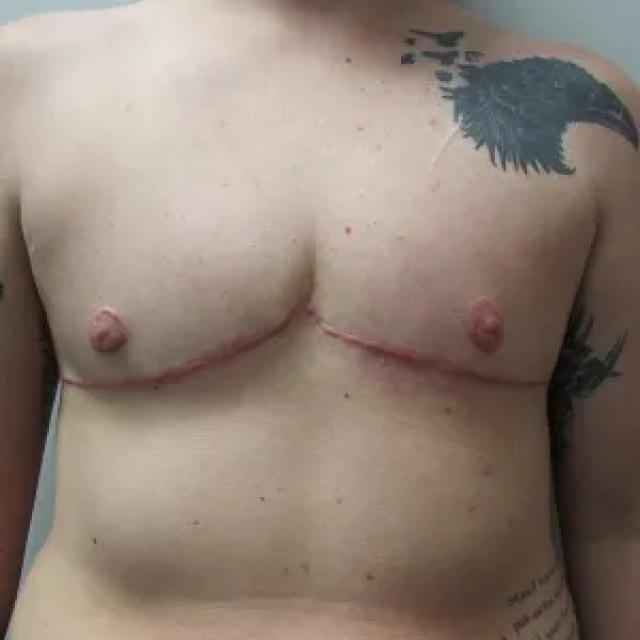Seno herido: (310, 200, 595, 412), (32, 200, 307, 412)
